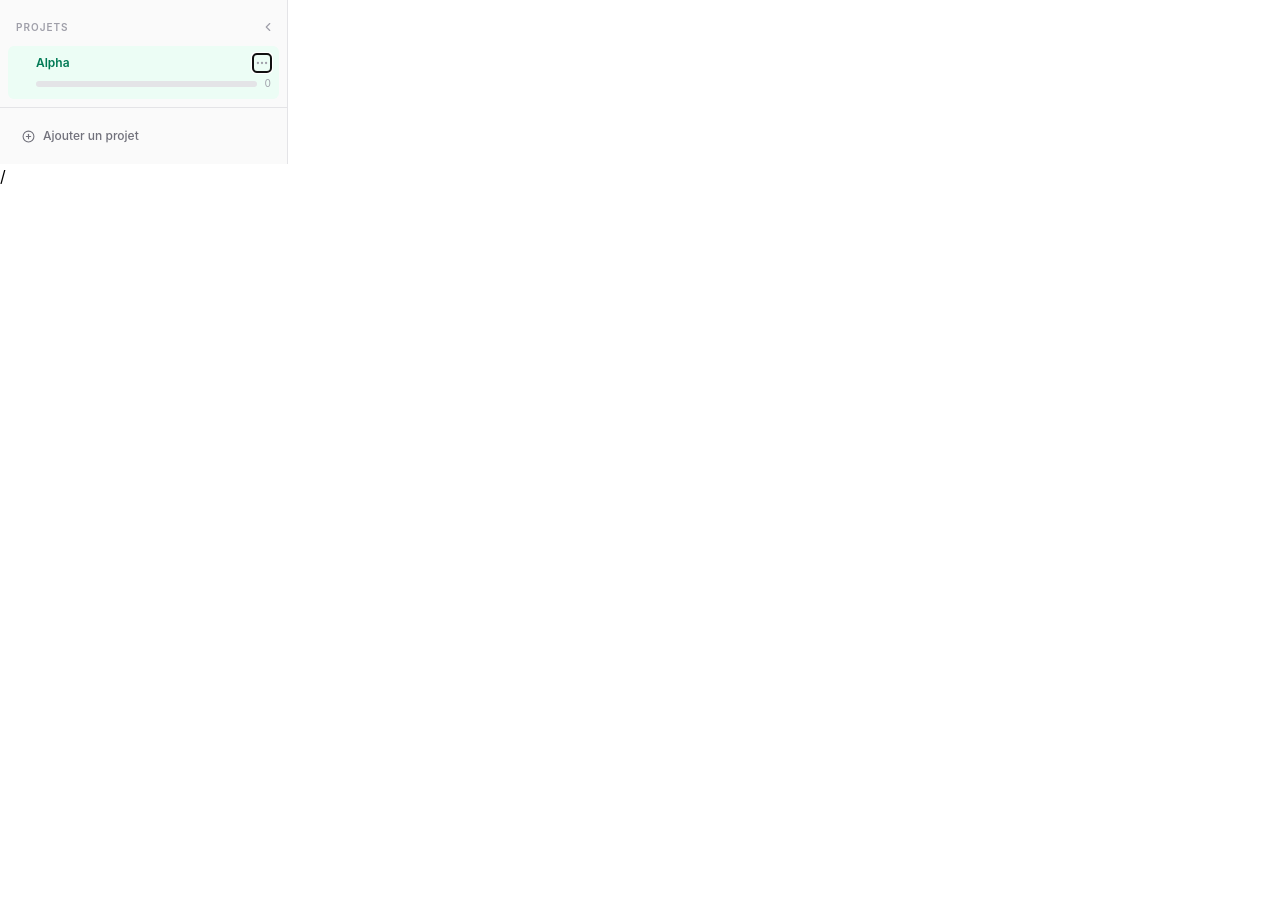
WorkspaceSidebar › actions menu and removal › keeps the dialog open with the error when removal fails
Press Enter in the button named "Actions du projet Alpha", box [253, 54, 271, 72]
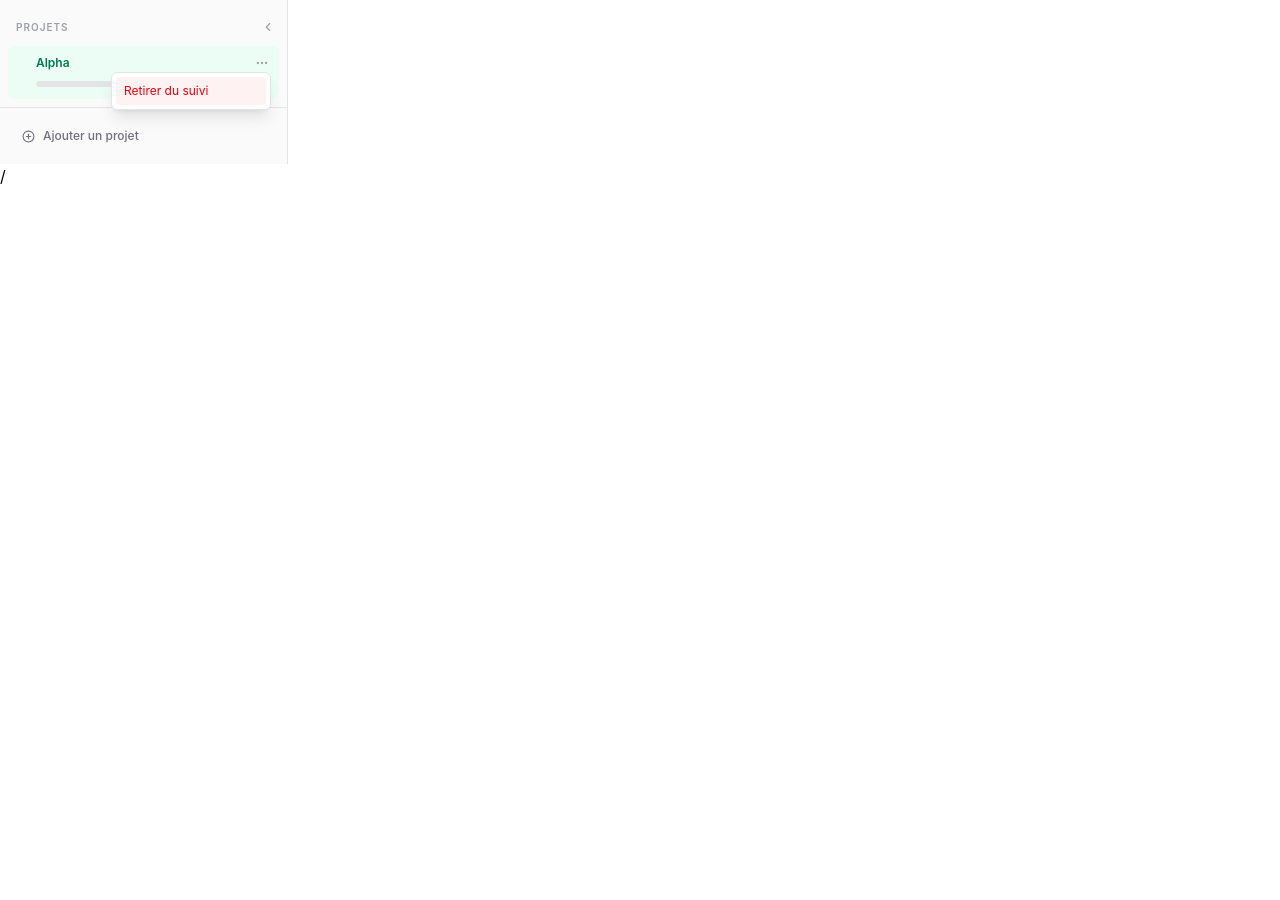
Click the menu item "Retirer du suivi".
click(191, 91)  # box [116, 77, 266, 105]
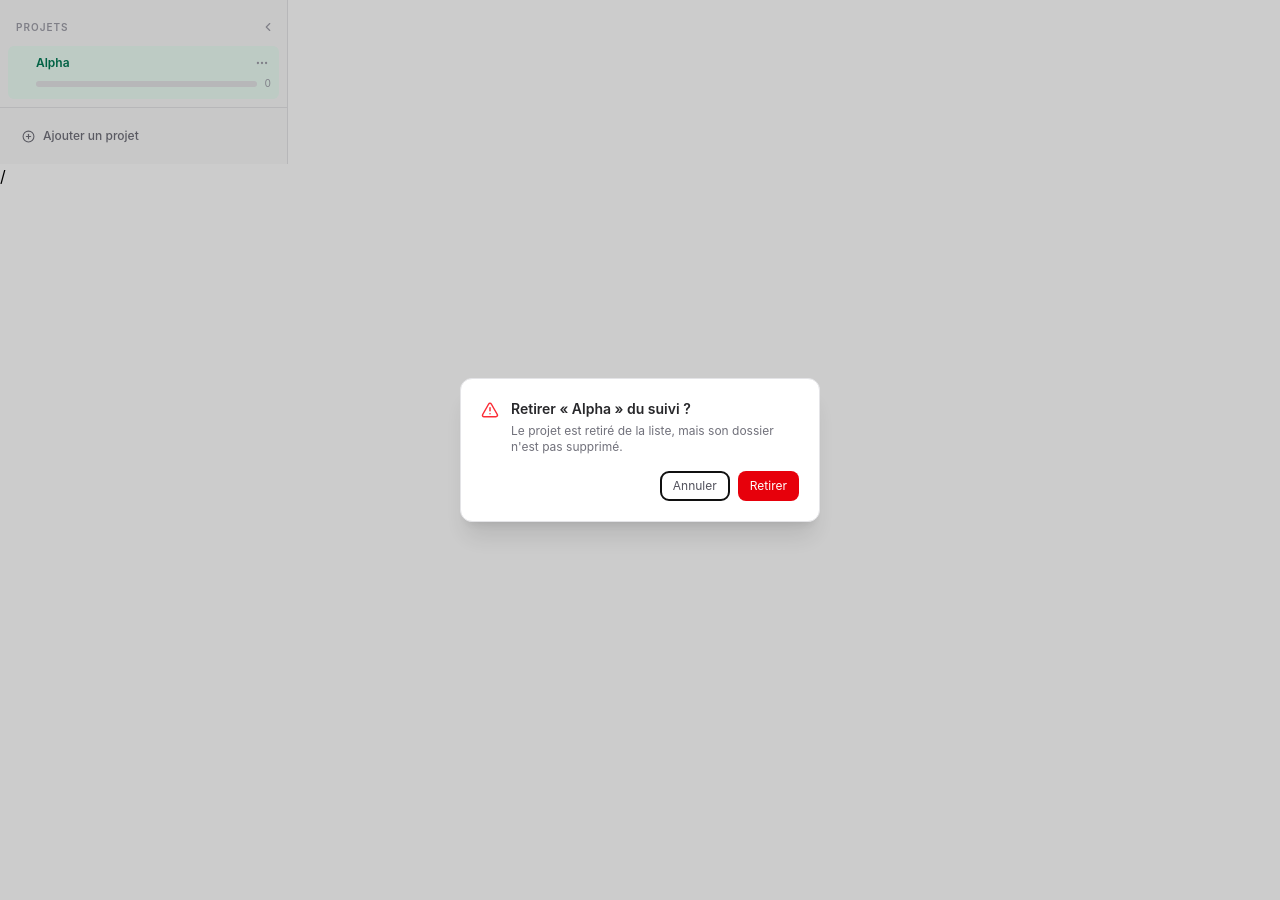
Click the button "Retirer".
click(768, 486)  # box [738, 471, 799, 501]
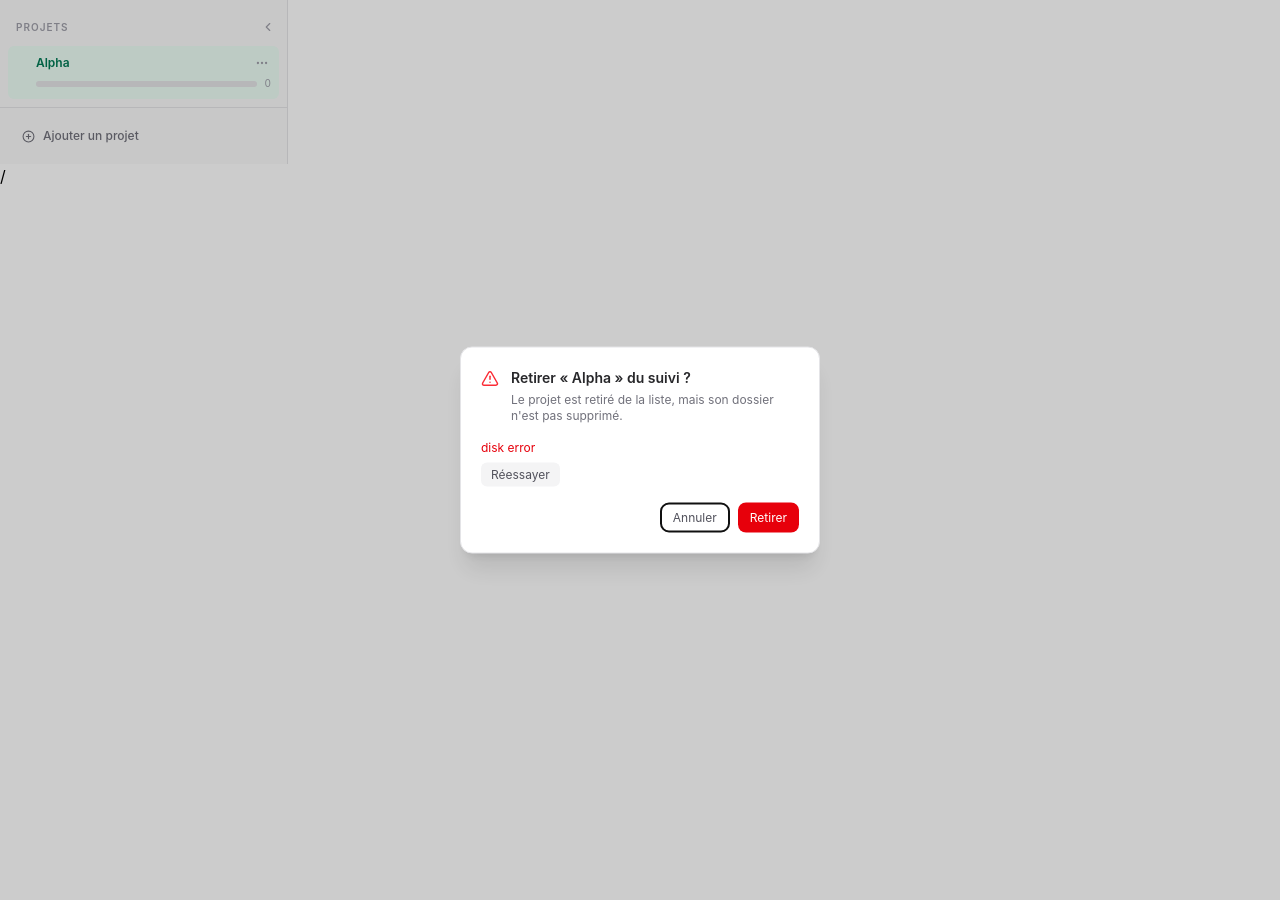
Expected: the dialog is shown, [460, 346, 820, 554]
Expected: the text "disk error" is shown, [481, 440, 535, 454]
